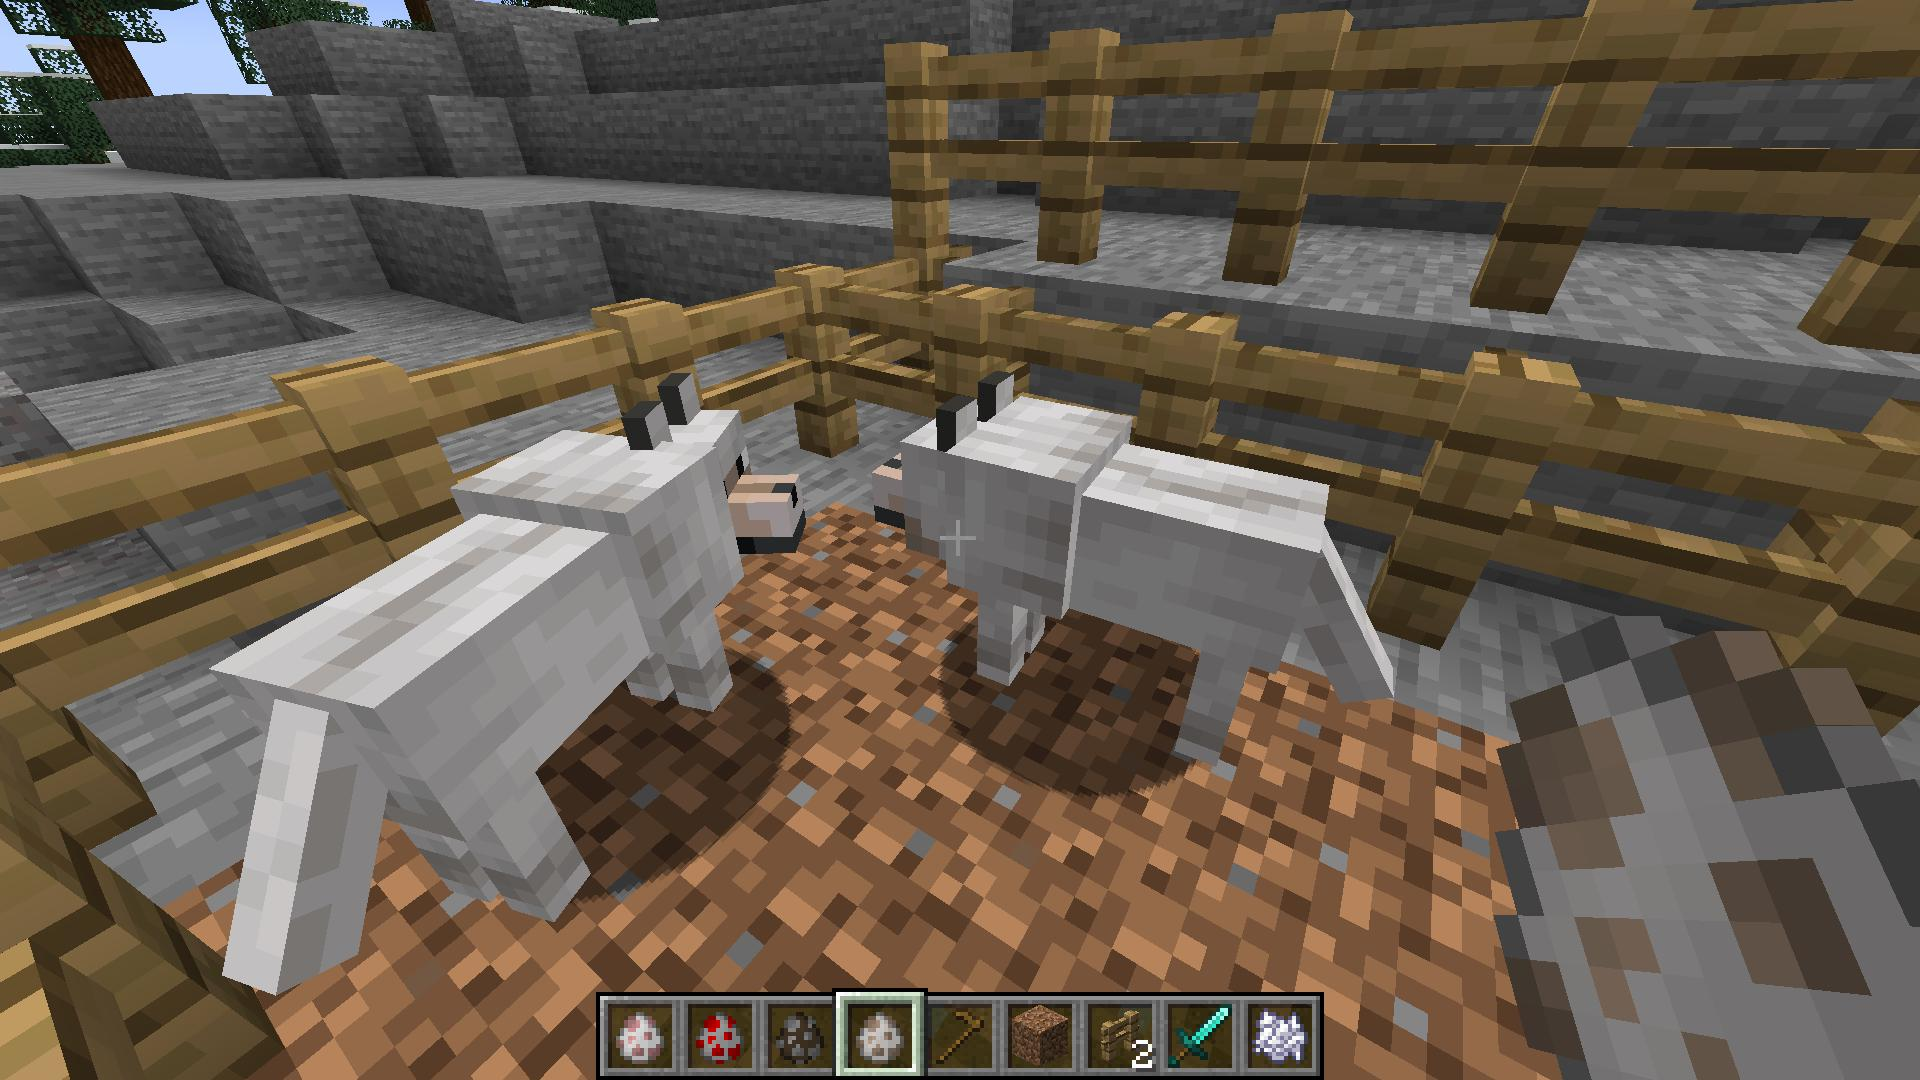wolf: (856, 367, 1399, 773)
